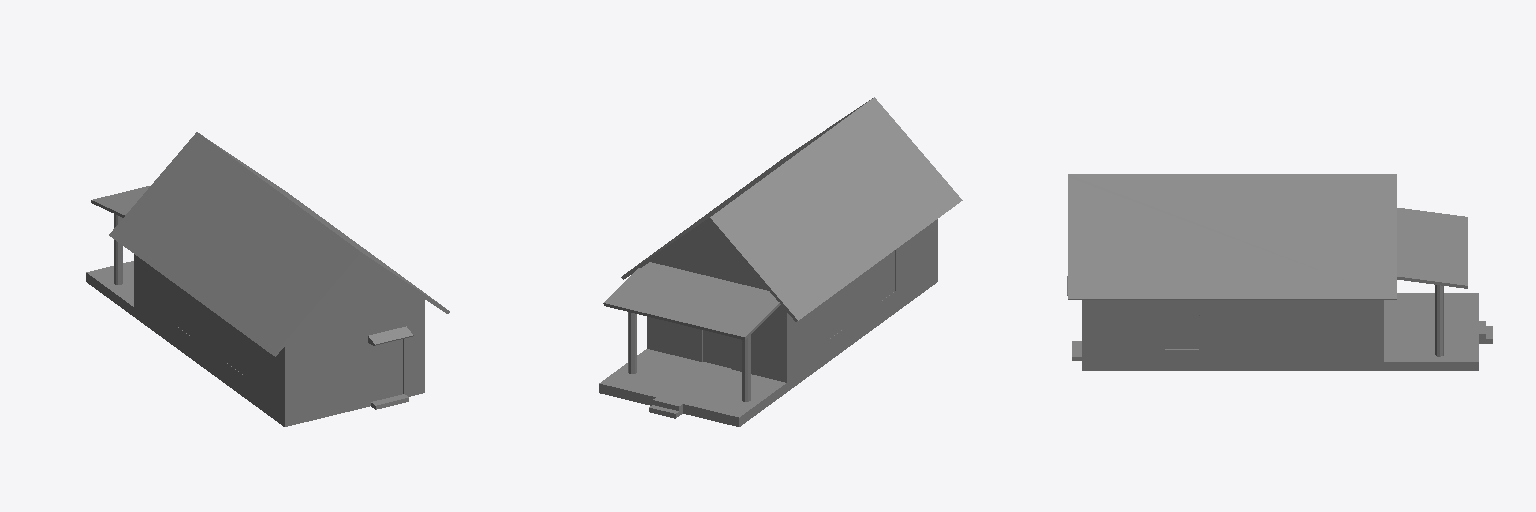
File: house.obj
3 views of the same model, side by side, from view 1: azimuth 30°, elevation 25°; view 2: azimuth 150°, elevation 25°; view 3: azimuth 270°, elevation 25° (orthographic).
Parts seen in each view (by area): view 1: polySurface73; view 2: polySurface73; view 3: polySurface73.
Part boxes in pixels (left/top/right/bottom): polySurface73: left=86, top=132, right=449, bottom=426; polySurface73: left=599, top=97, right=962, bottom=426; polySurface73: left=1067, top=174, right=1492, bottom=370.
Size of the model in its own units: 24.28 by 21.28 by 50.36.